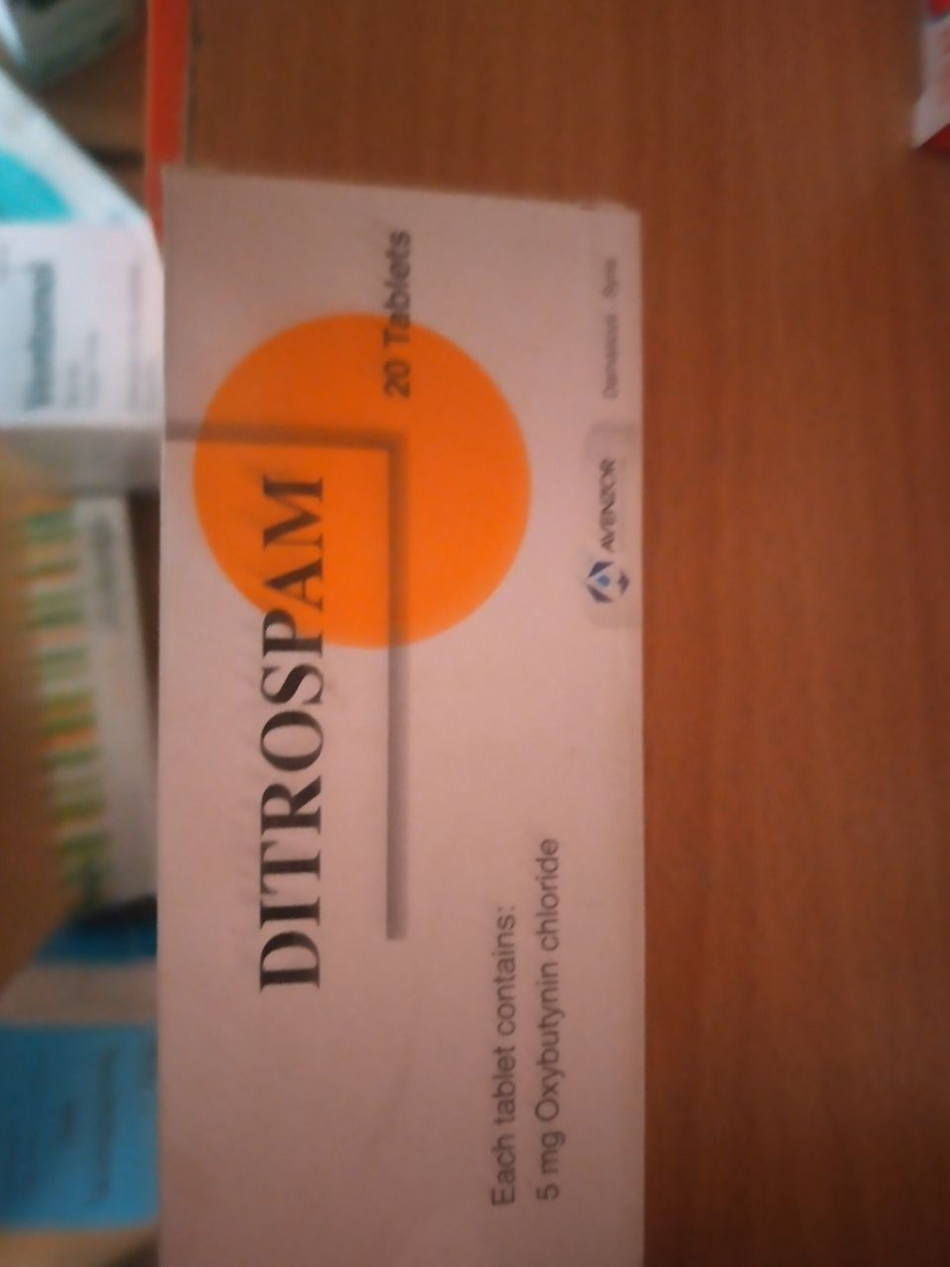Medicine: (139, 152, 653, 1267)
